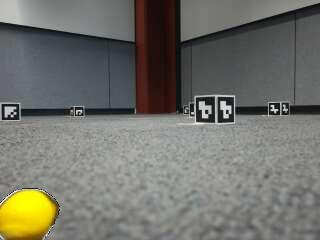lemon: (1, 192, 59, 240)
